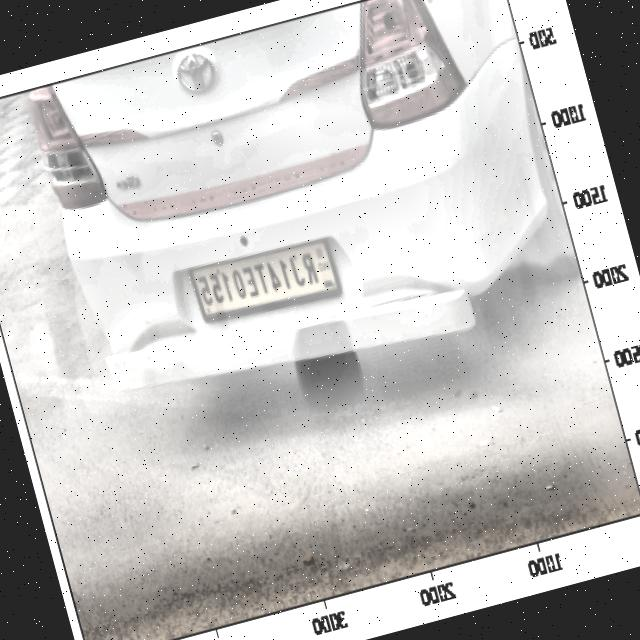license_plate: (188, 240, 325, 326)
